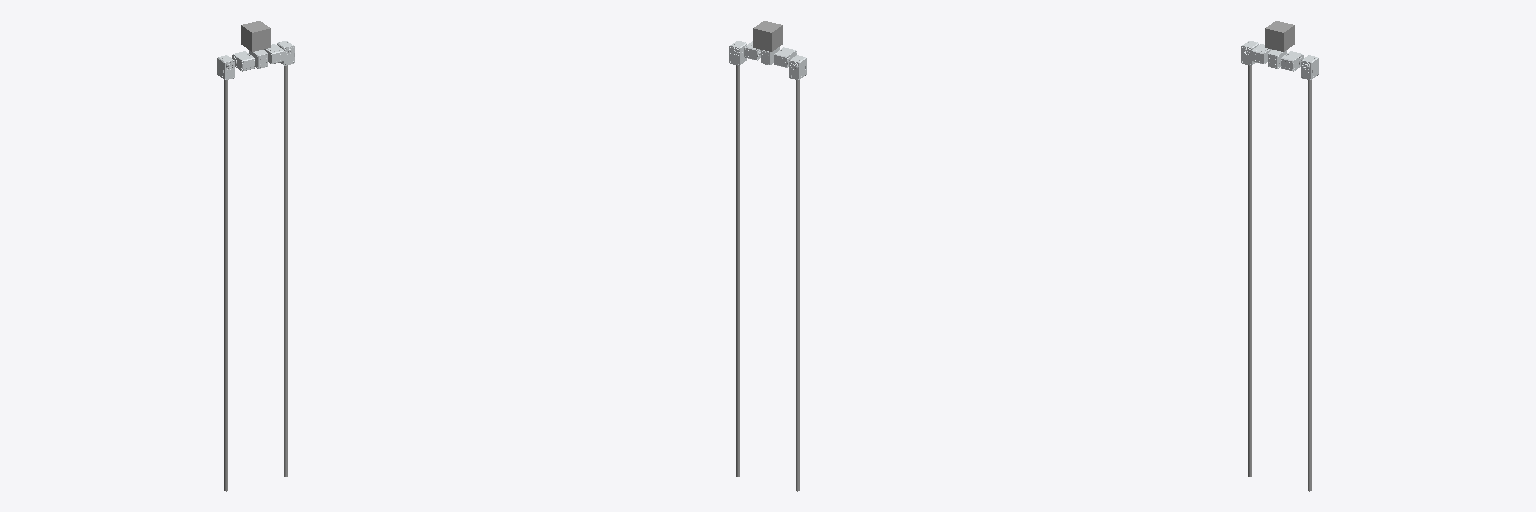
The robot description file, URDF, robot "chopstick_bot":
<?xml version='1.0' encoding='utf-8'?>
<robot name="chopstick_bot">
  <link name="world" />
  <joint name="world_to_base" type="fixed">
    <origin xyz="0.000000 0.000000 1.170000" rpy="0.000000 0.000000 0.000000" />
    <parent link="world" />
    <child link="base_motor_link" />
    </joint>
  <link name="base_motor_link">
    <visual>
      <origin xyz="0.000000 0.000000 0.000000" rpy="0.000000 0.000000 0.000000" />
      <geometry>
        <mesh filename="meshes/XL-430_new_coordinate_on_axis.STL" scale="0.001000 0.001000 0.001000" />
        </geometry>
      <material name="motor_mat">
        <color rgba="0.89804 0.91765 0.92941 1.0" />
        </material>
      </visual>
    <collision>
      <origin xyz="0.000000 -0.012000 0.000000" rpy="0.000000 0.000000 0.000000" />
      <geometry>
        <box size="0.028500 0.046500 0.034000" />
        </geometry>
      </collision>
    <inertial>
      <origin xyz="0.000000 -0.012000 0.000000" rpy="0.000000 0.000000 0.000000" />
      <mass value="0.065000" />
      <inertia ixx="0.000017973854" ixy="0" ixz="0" iyy="0.000010661354" iyz="0" izz="0.000016111875" />
      </inertial>
    </link>
  <link name="l_hip_pitch">
    <visual>
      <origin xyz="0.000000 0.000000 0.000000" rpy="0.000000 0.000000 0.000000" />
      <geometry>
        <mesh filename="meshes/XL-430_new_coordinate_on_axis.STL" scale="0.001000 0.001000 0.001000" />
        </geometry>
      <material name="motor_mat">
        <color rgba="0.89804 0.91765 0.92941 1.0" />
        </material>
      </visual>
    <collision>
      <origin xyz="0.000000 -0.012000 0.000000" rpy="0.000000 0.000000 0.000000" />
      <geometry>
        <box size="0.028500 0.046500 0.034000" />
        </geometry>
      </collision>
    <inertial>
      <origin xyz="0.000000 -0.012000 0.000000" rpy="0.000000 0.000000 0.000000" />
      <mass value="0.065000" />
      <inertia ixx="0.000017973854" ixy="0" ixz="0" iyy="0.000010661354" iyz="0" izz="0.000016111875" />
      </inertial>
    </link>
  <link name="l_hip_pitch_out">
    <inertial>
      <origin xyz="0.000000 0.000000 0.000000" rpy="0.000000 0.000000 0.000000" />
      <mass value="0.001000" />
      <inertia ixx="0.000000016667" ixy="0" ixz="0" iyy="0.000000016667" iyz="0" izz="0.000000016667" />
      </inertial>
    </link>
  <joint name="l_hip_pitch_mount_fixed" type="fixed">
    <origin xyz="-0.040000 0.000000 0.000000" rpy="0.000000 -1.570796 0.000000" />
    <parent link="base_motor_link" />
    <child link="l_hip_pitch" />
    </joint>
  <joint name="l_hip_pitch_joint" type="revolute">
    <origin xyz="0.000000 0.000000 0.000000" rpy="0.000000 0.000000 0.000000" />
    <parent link="l_hip_pitch" />
    <child link="l_hip_pitch_out" />
    <axis xyz="0.000000 0.000000 1.000000" />
    <limit lower="-3.14159" upper="3.14159" effort="5.0" velocity="8.0" />
    </joint>
  <link name="l_hip_roll">
    <visual>
      <origin xyz="0.000000 0.000000 0.000000" rpy="0.000000 0.000000 0.000000" />
      <geometry>
        <mesh filename="meshes/XL-430_new_coordinate_on_axis.STL" scale="0.001000 0.001000 0.001000" />
        </geometry>
      <material name="motor_mat">
        <color rgba="0.89804 0.91765 0.92941 1.0" />
        </material>
      </visual>
    <collision>
      <origin xyz="0.000000 -0.012000 0.000000" rpy="0.000000 0.000000 0.000000" />
      <geometry>
        <box size="0.028500 0.046500 0.034000" />
        </geometry>
      </collision>
    <inertial>
      <origin xyz="0.000000 -0.012000 0.000000" rpy="0.000000 0.000000 0.000000" />
      <mass value="0.065000" />
      <inertia ixx="0.000017973854" ixy="0" ixz="0" iyy="0.000010661354" iyz="0" izz="0.000016111875" />
      </inertial>
    </link>
  <link name="l_hip_roll_out">
    <inertial>
      <origin xyz="0.000000 0.000000 0.000000" rpy="0.000000 0.000000 0.000000" />
      <mass value="0.001000" />
      <inertia ixx="0.000000016667" ixy="0" ixz="0" iyy="0.000000016667" iyz="0" izz="0.000000016667" />
      </inertial>
    </link>
  <joint name="l_hip_roll_mount_fixed" type="fixed">
    <origin xyz="0.000000 0.000000 0.040000" rpy="0.000000 -1.570796 -1.570796" />
    <parent link="l_hip_pitch_out" />
    <child link="l_hip_roll" />
    </joint>
  <joint name="l_hip_roll_joint" type="revolute">
    <origin xyz="0.000000 0.000000 0.000000" rpy="0.000000 0.000000 0.000000" />
    <parent link="l_hip_roll" />
    <child link="l_hip_roll_out" />
    <axis xyz="0.000000 0.000000 1.000000" />
    <limit lower="-3.14159" upper="3.14159" effort="5.0" velocity="8.0" />
    </joint>
  <link name="l_end_effector">
    <visual>
      <origin xyz="0.000000 0.000000 0.000000" rpy="1.570796 0.000000 0.000000" />
      <geometry>
        <cylinder radius="0.005000" length="1.100000" />
        </geometry>
      <material name="cylinder_mat">
        <color rgba="0.7 0.7 0.7 1.0" />
        </material>
      </visual>
    <collision>
      <origin xyz="0.000000 -0.550000 0.000000" rpy="0.000000 0.000000 0.000000" />
      <geometry>
        <box size="0.020000 0.020000 0.020000" />
        </geometry>
      </collision>
    <inertial>
      <origin xyz="0.000000 0.000000 0.000000" rpy="0.000000 0.000000 0.000000" />
      <mass value="0.043197" />
      <inertia ixx="0.004355957295" ixy="0" ixz="0" iyy="0.004355957295" iyz="0" izz="0.000000539961" />
      </inertial>
    </link>
  <joint name="l_end_effector_fixed" type="fixed">
    <origin xyz="0.000000 -0.550000 0.000000" rpy="0.000000 0.000000 0.000000" />
    <parent link="l_hip_roll_out" />
    <child link="l_end_effector" />
    </joint>
  <link name="r_hip_pitch">
    <visual>
      <origin xyz="0.000000 0.000000 0.000000" rpy="0.000000 0.000000 0.000000" />
      <geometry>
        <mesh filename="meshes/XL-430_new_coordinate_on_axis.STL" scale="0.001000 0.001000 0.001000" />
        </geometry>
      <material name="motor_mat">
        <color rgba="0.89804 0.91765 0.92941 1.0" />
        </material>
      </visual>
    <collision>
      <origin xyz="0.000000 -0.012000 0.000000" rpy="0.000000 0.000000 0.000000" />
      <geometry>
        <box size="0.028500 0.046500 0.034000" />
        </geometry>
      </collision>
    <inertial>
      <origin xyz="0.000000 -0.012000 0.000000" rpy="0.000000 0.000000 0.000000" />
      <mass value="0.065000" />
      <inertia ixx="0.000017973854" ixy="0" ixz="0" iyy="0.000010661354" iyz="0" izz="0.000016111875" />
      </inertial>
    </link>
  <link name="r_hip_pitch_out">
    <inertial>
      <origin xyz="0.000000 0.000000 0.000000" rpy="0.000000 0.000000 0.000000" />
      <mass value="0.001000" />
      <inertia ixx="0.000000016667" ixy="0" ixz="0" iyy="0.000000016667" iyz="0" izz="0.000000016667" />
      </inertial>
    </link>
  <joint name="r_hip_pitch_mount_fixed" type="fixed">
    <origin xyz="0.040000 0.000000 0.000000" rpy="0.000000 1.570796 -0.000000" />
    <parent link="base_motor_link" />
    <child link="r_hip_pitch" />
    </joint>
  <joint name="r_hip_pitch_joint" type="revolute">
    <origin xyz="0.000000 0.000000 0.000000" rpy="0.000000 0.000000 0.000000" />
    <parent link="r_hip_pitch" />
    <child link="r_hip_pitch_out" />
    <axis xyz="0.000000 0.000000 1.000000" />
    <limit lower="-3.14159" upper="3.14159" effort="5.0" velocity="8.0" />
    </joint>
  <link name="r_hip_roll">
    <visual>
      <origin xyz="0.000000 0.000000 0.000000" rpy="0.000000 0.000000 0.000000" />
      <geometry>
        <mesh filename="meshes/XL-430_new_coordinate_on_axis.STL" scale="0.001000 0.001000 0.001000" />
        </geometry>
      <material name="motor_mat">
        <color rgba="0.89804 0.91765 0.92941 1.0" />
        </material>
      </visual>
    <collision>
      <origin xyz="0.000000 -0.012000 0.000000" rpy="0.000000 0.000000 0.000000" />
      <geometry>
        <box size="0.028500 0.046500 0.034000" />
        </geometry>
      </collision>
    <inertial>
      <origin xyz="0.000000 -0.012000 0.000000" rpy="0.000000 0.000000 0.000000" />
      <mass value="0.065000" />
      <inertia ixx="0.000017973854" ixy="0" ixz="0" iyy="0.000010661354" iyz="0" izz="0.000016111875" />
      </inertial>
    </link>
  <link name="r_hip_roll_out">
    <inertial>
      <origin xyz="0.000000 0.000000 0.000000" rpy="0.000000 0.000000 0.000000" />
      <mass value="0.001000" />
      <inertia ixx="0.000000016667" ixy="0" ixz="0" iyy="0.000000016667" iyz="0" izz="0.000000016667" />
      </inertial>
    </link>
  <joint name="r_hip_roll_mount_fixed" type="fixed">
    <origin xyz="-0.000000 0.000000 0.040000" rpy="0.000000 1.570796 1.570796" />
    <parent link="r_hip_pitch_out" />
    <child link="r_hip_roll" />
    </joint>
  <joint name="r_hip_roll_joint" type="revolute">
    <origin xyz="0.000000 0.000000 0.000000" rpy="0.000000 0.000000 0.000000" />
    <parent link="r_hip_roll" />
    <child link="r_hip_roll_out" />
    <axis xyz="0.000000 0.000000 1.000000" />
    <limit lower="-3.14159" upper="3.14159" effort="5.0" velocity="8.0" />
    </joint>
  <link name="r_end_effector">
    <visual>
      <origin xyz="0.000000 0.000000 0.000000" rpy="1.570796 0.000000 0.000000" />
      <geometry>
        <cylinder radius="0.005000" length="1.100000" />
        </geometry>
      <material name="cylinder_mat">
        <color rgba="0.7 0.7 0.7 1.0" />
        </material>
      </visual>
    <collision>
      <origin xyz="0.000000 -0.550000 0.000000" rpy="0.000000 0.000000 0.000000" />
      <geometry>
        <box size="0.020000 0.020000 0.020000" />
        </geometry>
      </collision>
    <inertial>
      <origin xyz="0.000000 0.000000 0.000000" rpy="0.000000 0.000000 0.000000" />
      <mass value="0.043197" />
      <inertia ixx="0.004355957295" ixy="0" ixz="0" iyy="0.004355957295" iyz="0" izz="0.000000539961" />
      </inertial>
    </link>
  <joint name="r_end_effector_fixed" type="fixed">
    <origin xyz="-0.000000 -0.550000 0.000000" rpy="0.000000 -0.000000 0.000000" />
    <parent link="r_hip_roll_out" />
    <child link="r_end_effector" />
    </joint>
  <link name="trunk_link">
    <visual>
      <origin xyz="0.000000 0.000000 0.000000" rpy="0.000000 0.000000 0.000000" />
      <geometry>
        <box size="0.050000 0.050000 0.050000" />
        </geometry>
      <material name="box_mat">
        <color rgba="0.7 0.7 0.7 1.0" />
        </material>
      </visual>
    <collision>
      <origin xyz="0.000000 0.000000 0.000000" rpy="0.000000 0.000000 0.000000" />
      <geometry>
        <box size="0.050000 0.050000 0.050000" />
        </geometry>
      </collision>
    <inertial>
      <origin xyz="0.000000 0.000000 0.000000" rpy="0.000000 0.000000 0.000000" />
      <mass value="0.200000" />
      <inertia ixx="0.000083333333" ixy="0" ixz="0" iyy="0.000083333333" iyz="0" izz="0.000083333333" />
      </inertial>
    </link>
  <joint name="base_to_trunk" type="revolute">
    <origin xyz="0.000000 0.000000 0.050000" rpy="0.000000 0.000000 0.000000" />
    <parent link="base_motor_link" />
    <child link="trunk_link" />
    <axis xyz="0.000000 0.000000 1.000000" />
    <limit lower="-3.14159" upper="3.14159" effort="5.0" velocity="8.0" />
    </joint>
  </robot>

--- Render facts (derived) ---
3 views of the same robot in one strip: view 1: azimuth 30°, elevation 25°; view 2: azimuth 150°, elevation 25°; view 3: azimuth 330°, elevation 25° (orthographic).
Model chopstick_bot with 13 links and 12 joints (5 revolute, 7 fixed), rooted at world, posed every joint at zero.
Visible links, largest first — view 1: l_end_effector, r_end_effector, trunk_link; view 2: l_end_effector, r_end_effector, trunk_link; view 3: l_end_effector, r_end_effector, trunk_link.
Boxes of the visible links, x1=… form: l_end_effector: x1=224, y1=80, x2=227, y2=491; r_end_effector: x1=284, y1=65, x2=287, y2=476; trunk_link: x1=241, y1=21, x2=270, y2=51; l_end_effector: x1=796, y1=80, x2=799, y2=491; r_end_effector: x1=736, y1=65, x2=739, y2=476; trunk_link: x1=753, y1=21, x2=782, y2=51; l_end_effector: x1=1248, y1=65, x2=1251, y2=476; r_end_effector: x1=1308, y1=80, x2=1311, y2=491; trunk_link: x1=1265, y1=21, x2=1294, y2=51.
Size in the robot's own frame: 0.1885 by 0.0602 by 1.18 metres.
Meshes: 1 distinct files referenced, 5 mesh visuals loaded (1 binary STL).
